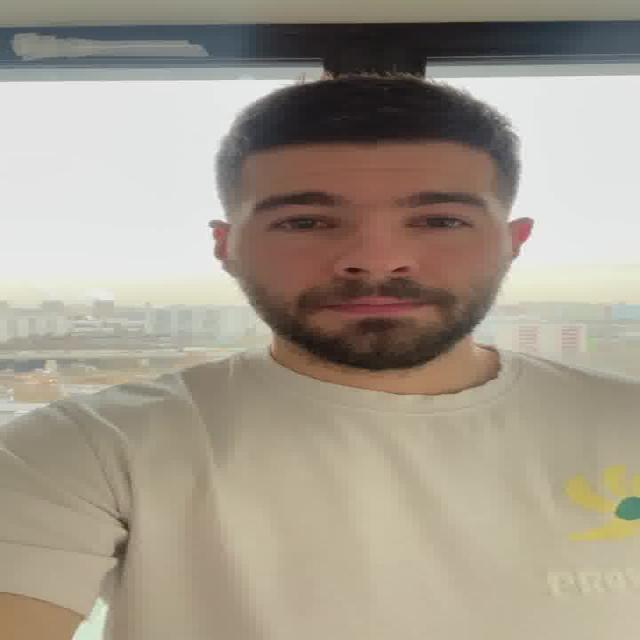eye: (410, 215, 470, 229), (272, 217, 333, 230)
nose: (338, 270, 412, 296)
wholeear: (205, 220, 232, 270), (506, 218, 536, 258)
